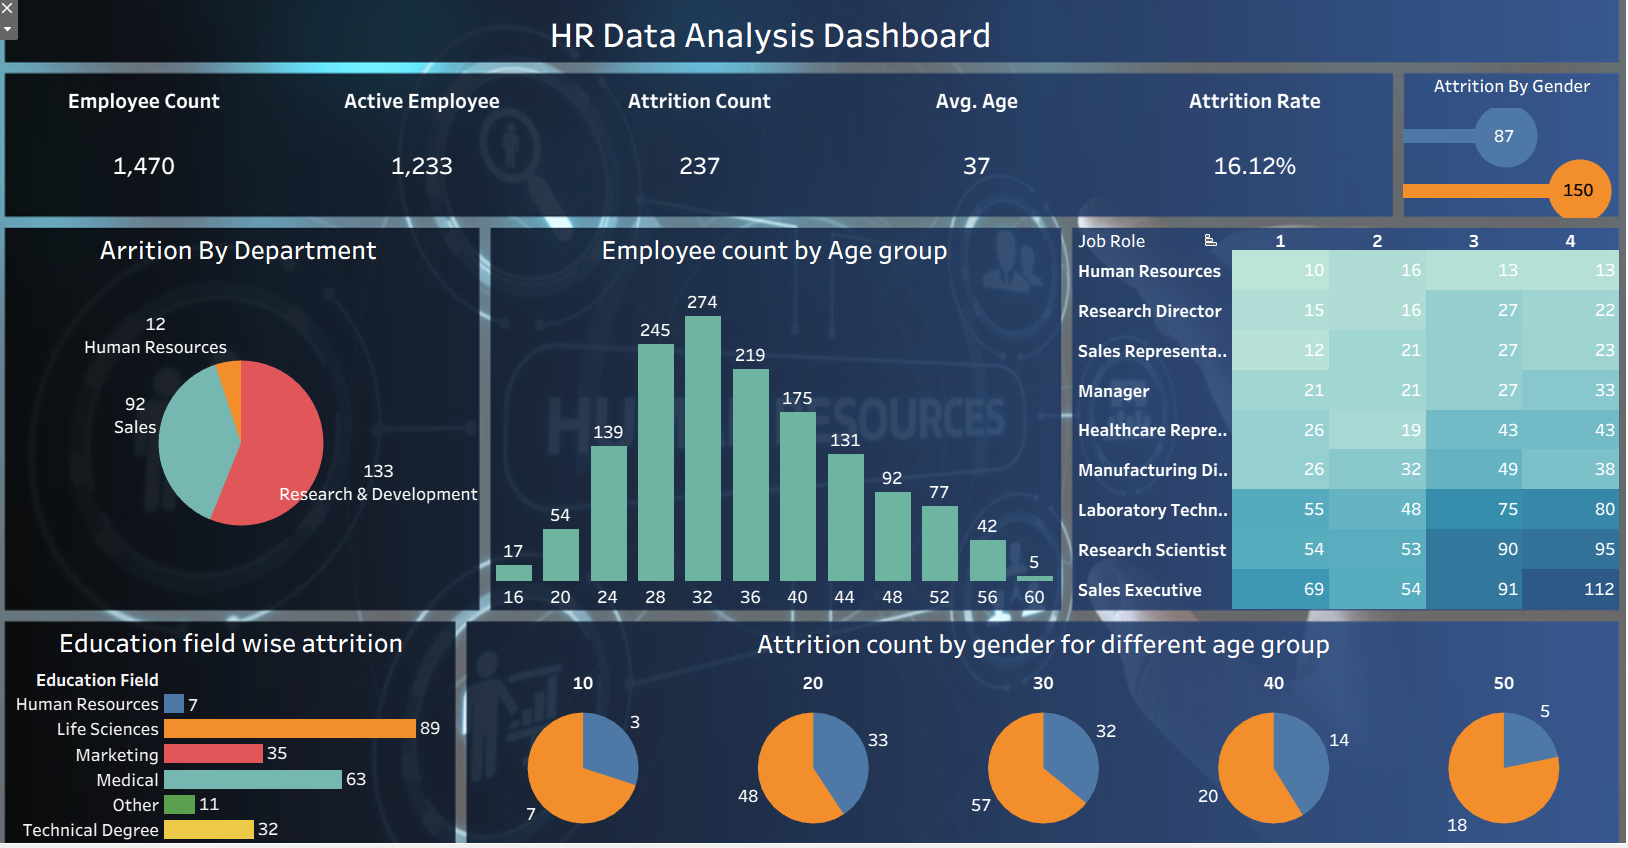

What the dashboard file says about the page in this screenshot:
{"tool":"tableau","page":{"name":"Hr Dashboard","canvas":[2000,1000],"ordinal":0},"visuals":[{"type":"text","box":[547,12,449,46]},{"type":"worksheet","title":"Attrition By Gender","mark":"Automatic","rows":["Gender"],"cols":["Calculation_1141594605969409","Calculation_1141594605969409"],"box":[1404,71,218,149]},{"type":"worksheet","title":"KPI","mark":"Automatic","box":[6,75,1389,143]},{"type":"worksheet","title":"Arrition By Department ","mark":"Pie","box":[4,230,476,380]},{"type":"worksheet","title":"Employee count by Age group","mark":"Automatic","rows":["EmployeeCount"],"cols":["Age (bin)"],"box":[491,230,569,381]},{"type":"worksheet","title":"Job satisfaction by job role","mark":"Square","rows":["JobRole"],"cols":["JobSatisfaction"],"box":[1073,232,547,379]},{"type":"worksheet","title":"Education field wise attrition","mark":"Automatic","rows":["EducationField"],"cols":["Calculation_1141594605969409"],"box":[7,623,448,211]},{"type":"worksheet","title":"Attrition count ny gender for different age group","mark":"Pie","cols":["Age (bin) 2"],"box":[468,624,1151,222]}]}

Visuals, with their boxes on the page's 2000x1000 design canvas (x1, y1, x2, y2). These are canvas units, not pixel positions in the 1628x848 screenshot, which may show the page scaled, cropped or inside an application window:
text: (547, 12, 996, 58)
"Attrition By Gender" worksheet: (1404, 71, 1622, 220)
"KPI" worksheet: (6, 75, 1395, 218)
"Arrition By Department " worksheet (Pie marks): (4, 230, 480, 610)
"Employee count by Age group" worksheet: (491, 230, 1060, 611)
"Job satisfaction by job role" worksheet (Square marks): (1073, 232, 1620, 611)
"Education field wise attrition" worksheet: (7, 623, 455, 834)
"Attrition count ny gender for different age group" worksheet (Pie marks): (468, 624, 1619, 846)
